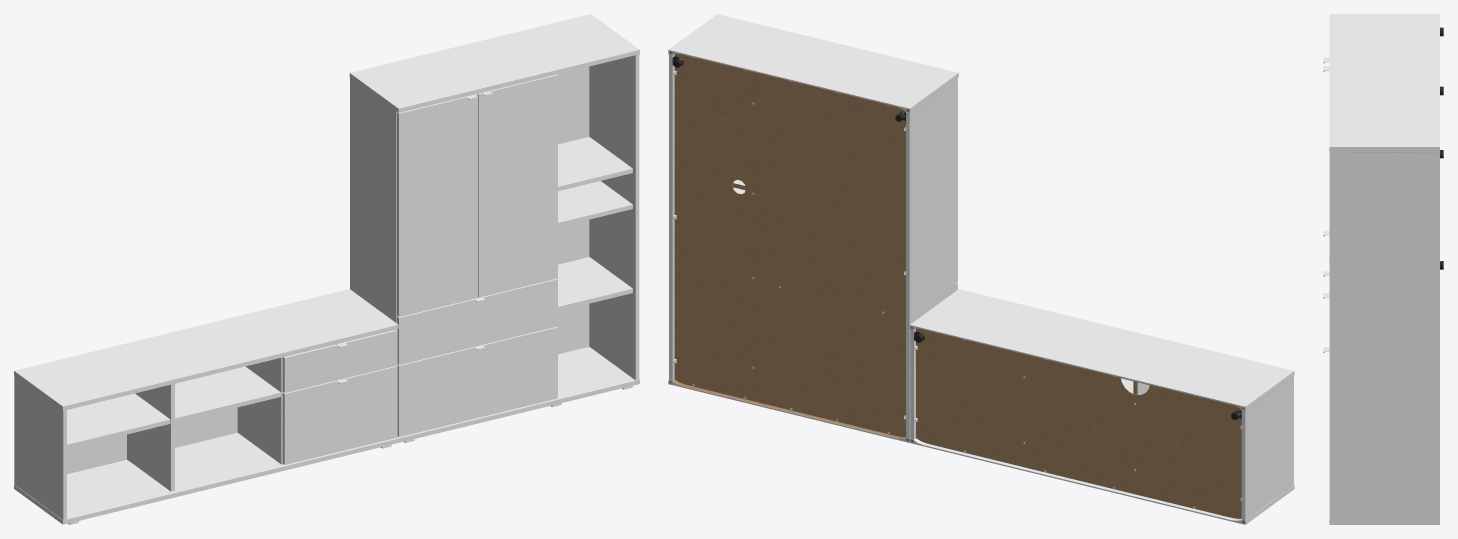
File: vihals_tv_kombinacja_regaowa_99440613.glb
The picture shows the model from 3 angles, left to right: view 1: azimuth 30°, elevation 25°; view 2: azimuth 150°, elevation 25°; view 3: azimuth 270°, elevation 25°; orthographic projection. The views are drawn at different scales.
Visible parts, largest first — view 1: vihals_tv_kombinacja_regaowa_99440613; view 2: vihals_tv_kombinacja_regaowa_99440613; view 3: vihals_tv_kombinacja_regaowa_99440613.
Boxes of the visible parts, x1,y1,x2,y2 form: vihals_tv_kombinacja_regaowa_99440613: (14, 14, 639, 524); vihals_tv_kombinacja_regaowa_99440613: (668, 14, 1294, 524); vihals_tv_kombinacja_regaowa_99440613: (1323, 14, 1443, 524).
Size of the model in its own units: 2.52 by 1.4 by 0.4011.
1 material, 1 textured.
